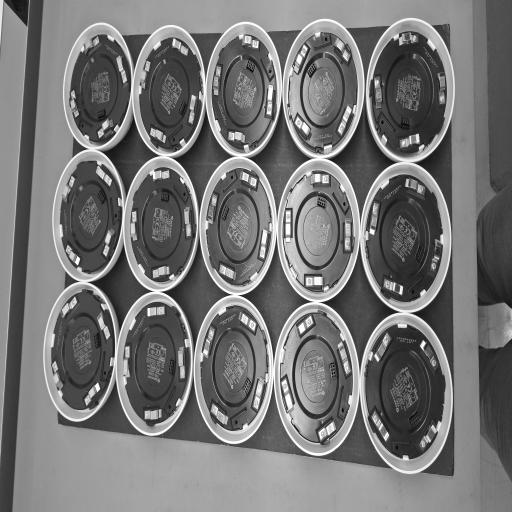konnektor: (408, 410, 420, 428), (415, 244, 425, 263), (220, 203, 230, 221), (242, 377, 252, 395), (307, 62, 317, 78), (328, 362, 336, 380), (246, 60, 256, 73), (316, 196, 326, 209), (179, 100, 187, 116), (97, 189, 105, 203), (168, 358, 174, 376), (160, 192, 170, 202), (94, 333, 100, 348), (97, 109, 105, 119)
yayli: (370, 409, 390, 443), (418, 421, 439, 453), (280, 374, 296, 414), (316, 417, 338, 445), (421, 340, 440, 372), (236, 308, 259, 334), (251, 377, 267, 414), (210, 399, 230, 428), (337, 339, 352, 376), (332, 36, 350, 66), (337, 105, 353, 138), (294, 112, 312, 141), (374, 332, 391, 362), (296, 313, 317, 337), (382, 276, 404, 298), (404, 177, 426, 198), (202, 325, 216, 358), (84, 381, 101, 408), (430, 239, 443, 274), (98, 310, 112, 341), (369, 201, 381, 237), (61, 295, 79, 319), (102, 227, 116, 257), (399, 133, 421, 151), (97, 116, 114, 139), (206, 192, 218, 224), (239, 170, 258, 190), (116, 55, 128, 86), (96, 165, 112, 188), (62, 176, 75, 204), (65, 244, 80, 268), (52, 360, 64, 390), (140, 60, 152, 90), (218, 262, 236, 282), (258, 230, 269, 261), (82, 36, 99, 56), (284, 208, 294, 242), (264, 85, 274, 118), (188, 94, 198, 126), (398, 31, 418, 47), (212, 65, 222, 96), (310, 172, 330, 187), (172, 38, 188, 56), (150, 126, 166, 144), (228, 129, 246, 145), (344, 218, 352, 254), (304, 274, 324, 288), (179, 346, 187, 380), (374, 75, 382, 108), (123, 344, 131, 377), (438, 72, 446, 105), (152, 168, 170, 182), (152, 266, 170, 280), (184, 206, 192, 237), (130, 210, 138, 241), (242, 35, 258, 50), (70, 91, 79, 117), (147, 305, 165, 317), (144, 408, 161, 420), (293, 61, 300, 74), (0, 0, 6, 8)
